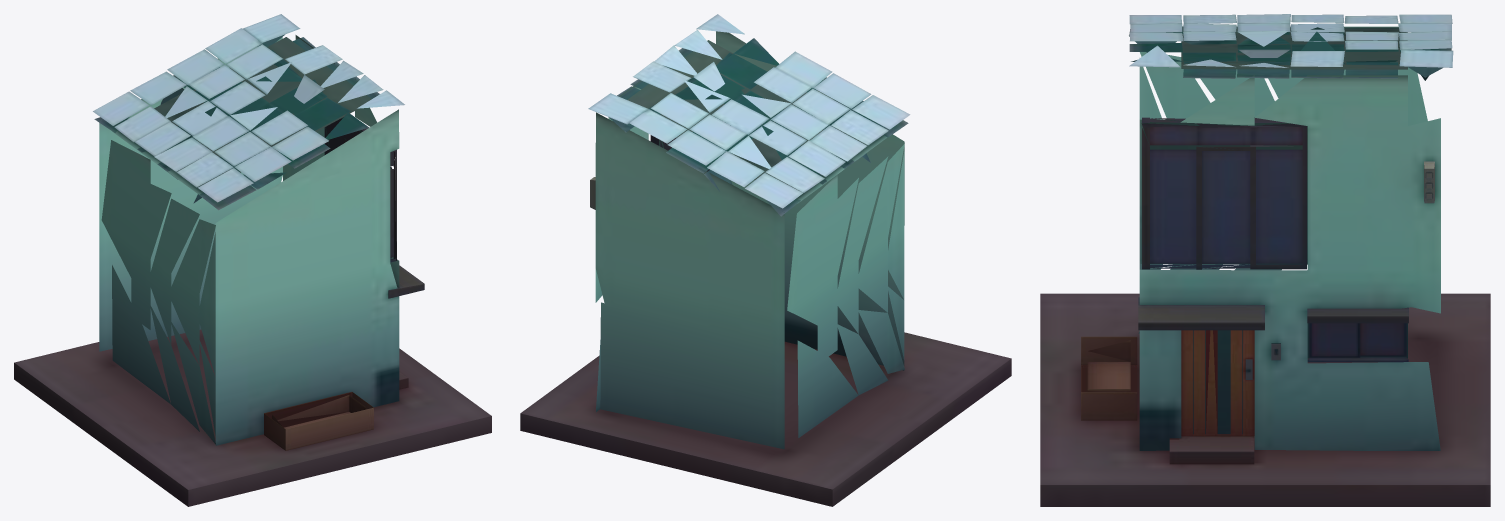
Rendered from casa-estrato-3.glb.
3 views of the same model, side by side, from view 1: azimuth 30°, elevation 25°; view 2: azimuth 150°, elevation 25°; view 3: azimuth 270°, elevation 25° (orthographic). The views are drawn at different scales.
Visible parts, largest first — view 1: Material.005, suelo 2, piedra, Matera 2, Negro 2; view 2: Material.005, suelo 2, piedra; view 3: Material.005, suelo 2, Negro 2, piedra, Madera 2, Matera 2, Gris 2.
Part boxes in pixels (x1,y1,x2,y2): Material.005: (99,35,399,445); suelo 2: (14,329,491,506); piedra: (93,14,404,210); Matera 2: (264,392,373,450); Negro 2: (324,115,424,298); Material.005: (595,31,904,449); suelo 2: (520,332,1011,506); piedra: (588,14,910,216); Material.005: (1138,26,1440,450); suelo 2: (1040,293,1490,506); Negro 2: (1138,117,1408,362); piedra: (1129,14,1453,80); Madera 2: (1181,330,1254,435); Matera 2: (1081,336,1137,420); Gris 2: (1245,161,1434,379).
Size of the model in its own units: 5.42 by 5.39 by 5.38.
Materials: 7 (7 with a texture image).
